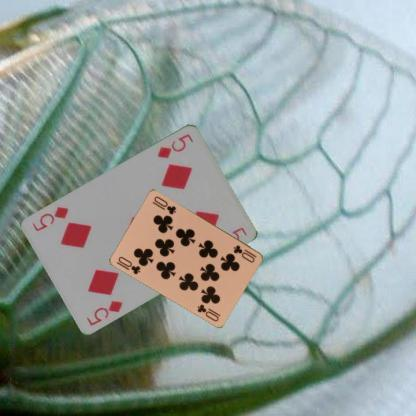10c: (231, 242, 258, 264), (116, 254, 142, 276)
5d: (154, 130, 195, 160), (84, 297, 124, 327)
